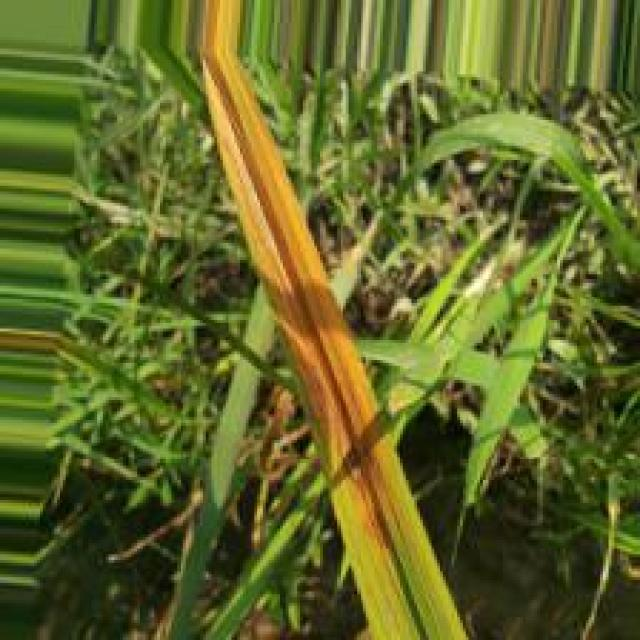Leaf_Blast: (198, 48, 398, 567)
